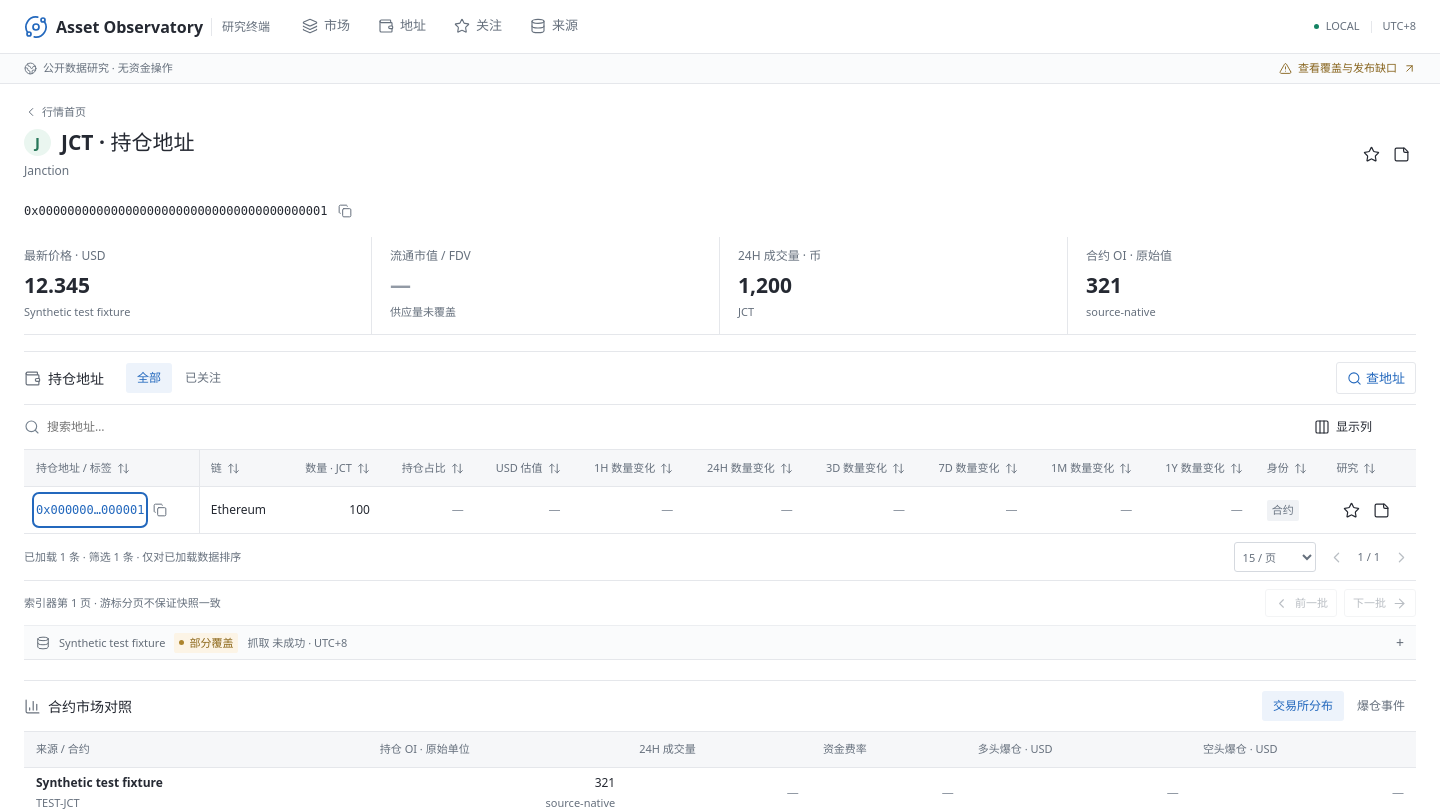
Test: holder address opens a preview and links to its token detail in a new tab
Click the button "0x000000…000001".
click(90, 510)  # box [36,496,144,524]
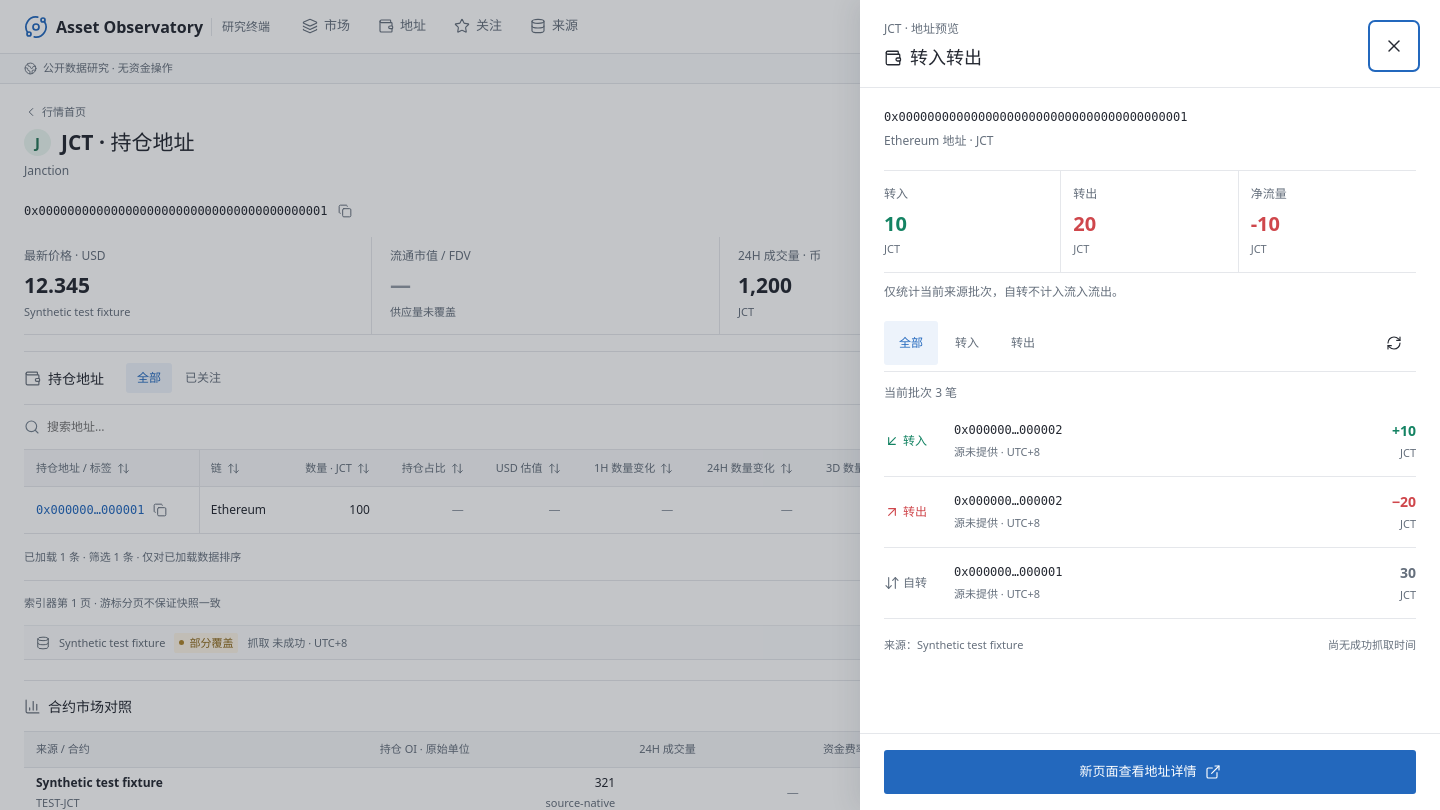
Expected: the text "+10" is shown, [1392,420,1416,440]
Click the button "转入".
click(967, 342)  # box [940,320,994,364]
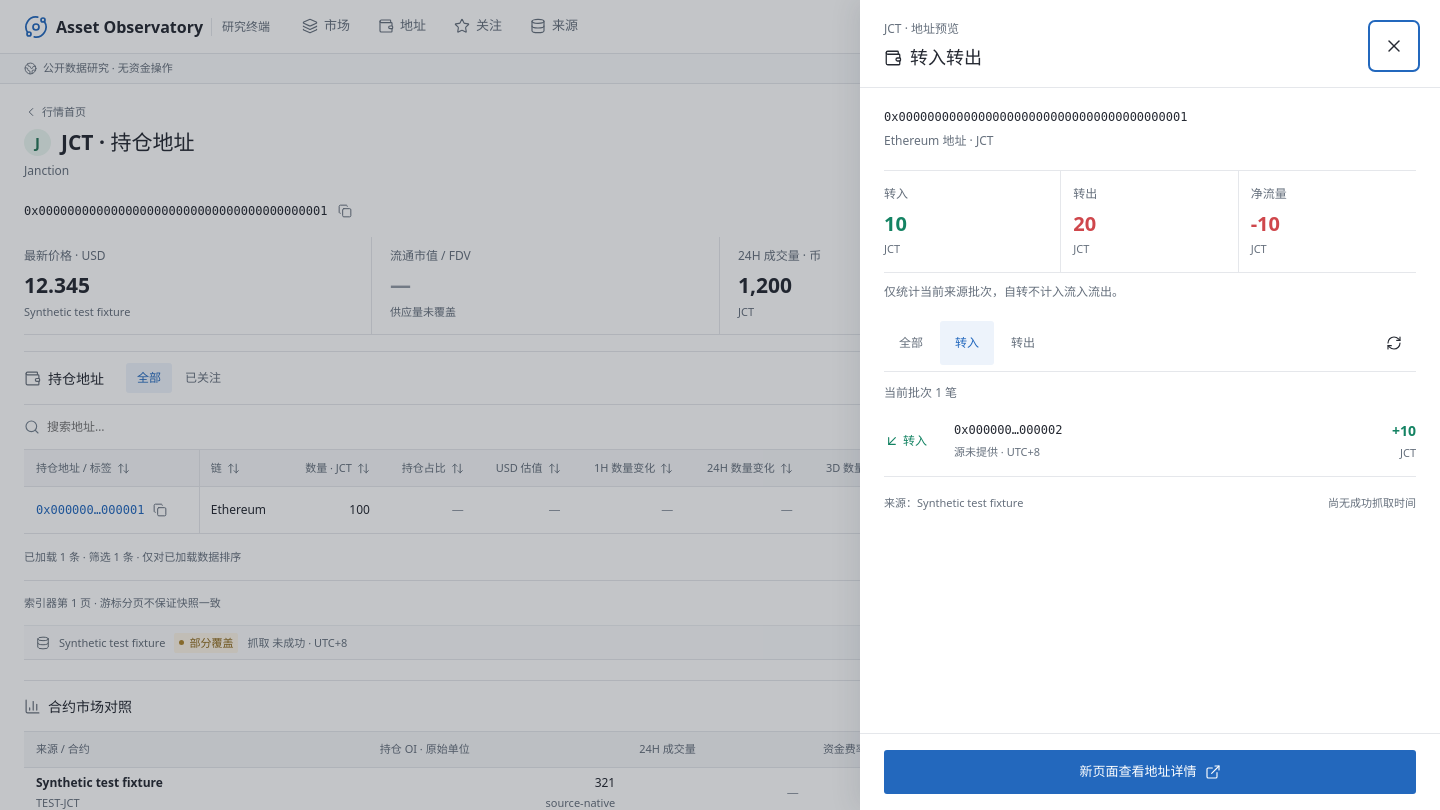
Expected: the text "+10" is shown, [1392,420,1416,440]
Expected: the text "−20" is gone
Press Escape
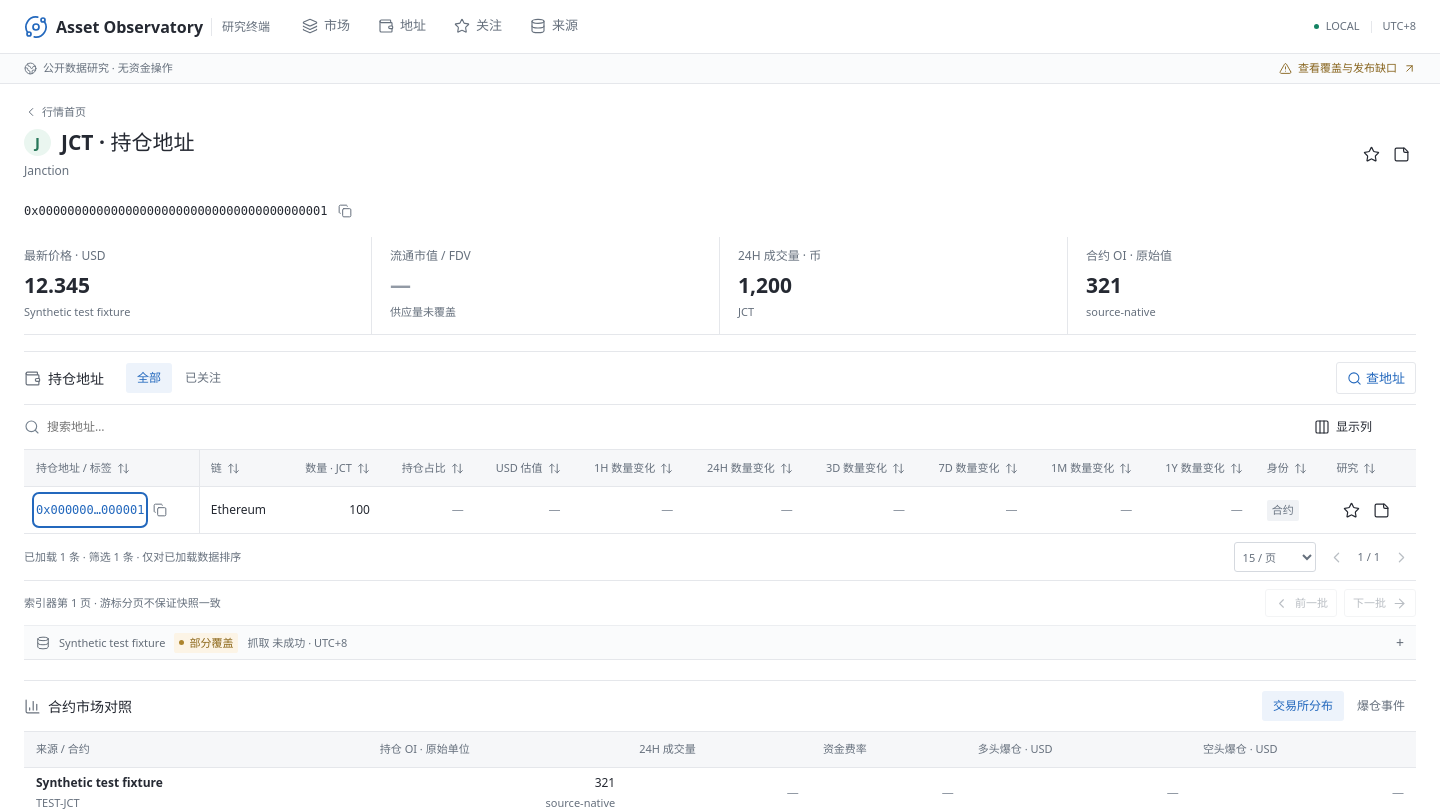
Expected: the heading "J JCT · 持仓地址" is shown, [24,128,194,157]
Expected: the heading "转入转出" is gone
